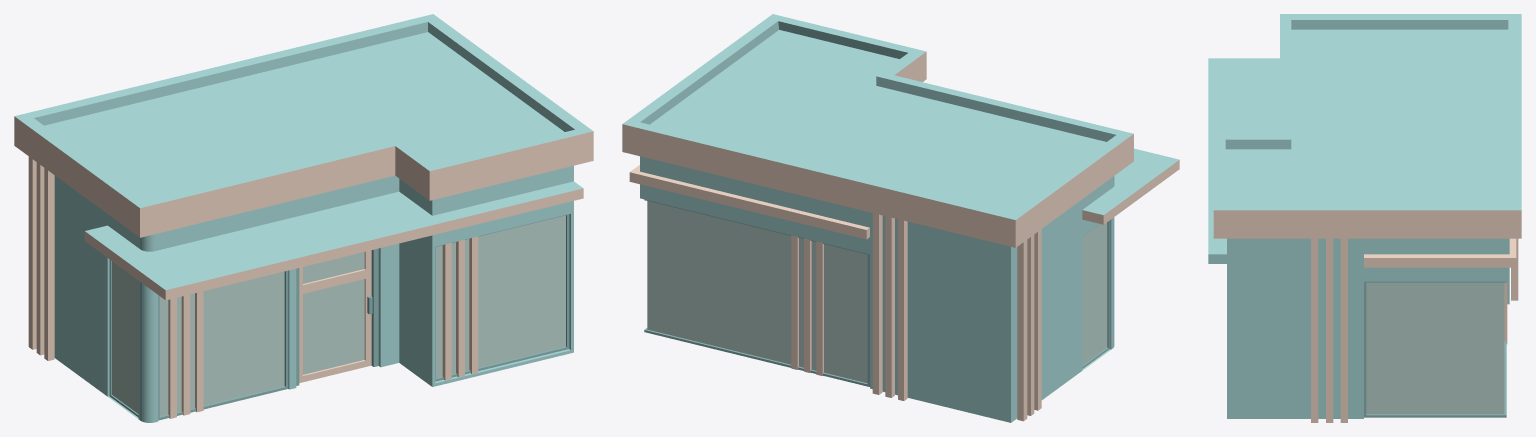
File: blue_house.glb
3 renders of one model, left to right at view 1: azimuth 30°, elevation 25°; view 2: azimuth 150°, elevation 25°; view 3: azimuth 270°, elevation 25°, orthographic. The views are drawn at different scales.
Parts seen in each view (by area): view 1: body; view 2: body; view 3: body.
Boxes of the visible parts, x1=… form: body: x1=14, y1=14, x2=593, y2=422; body: x1=622, y1=14, x2=1179, y2=422; body: x1=1208, y1=14, x2=1521, y2=422.
Size of the model in its own units: 6.73 by 3.34 by 4.41.
